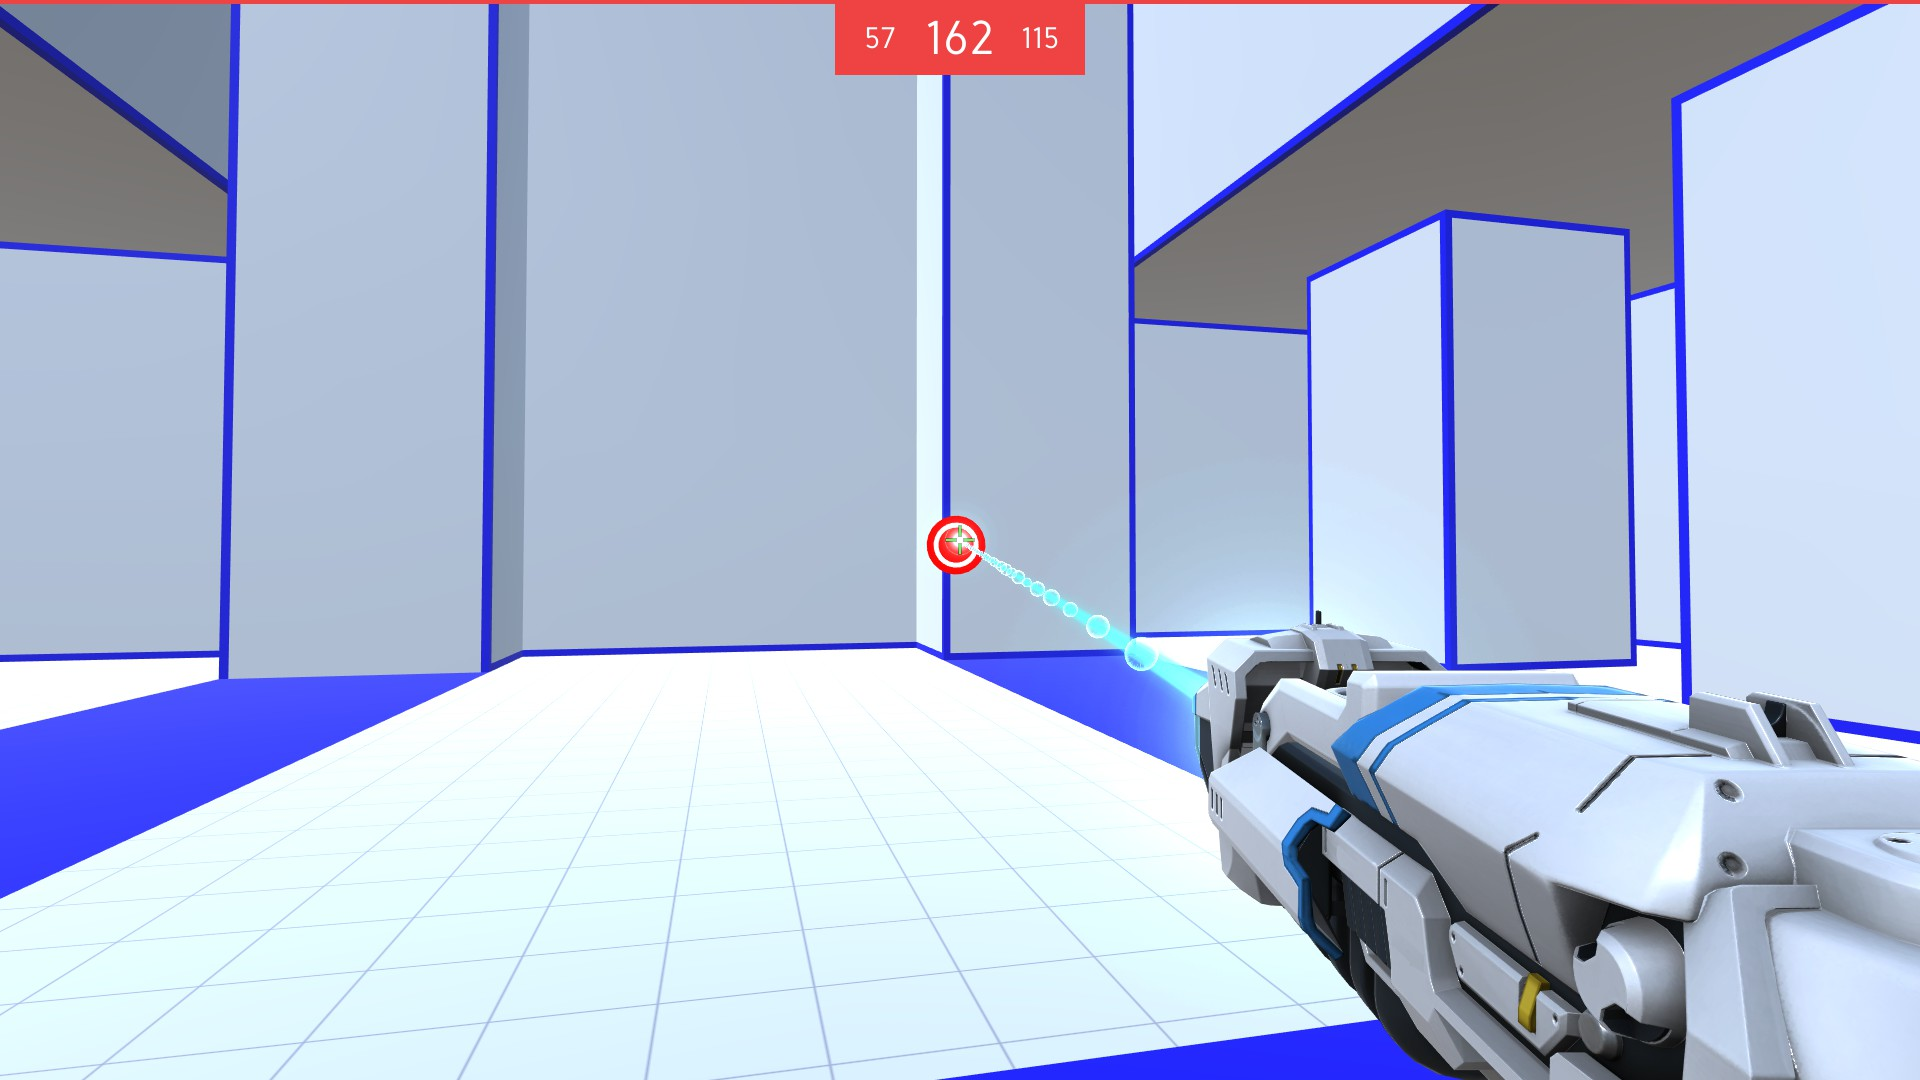target: (924, 514, 989, 576)
